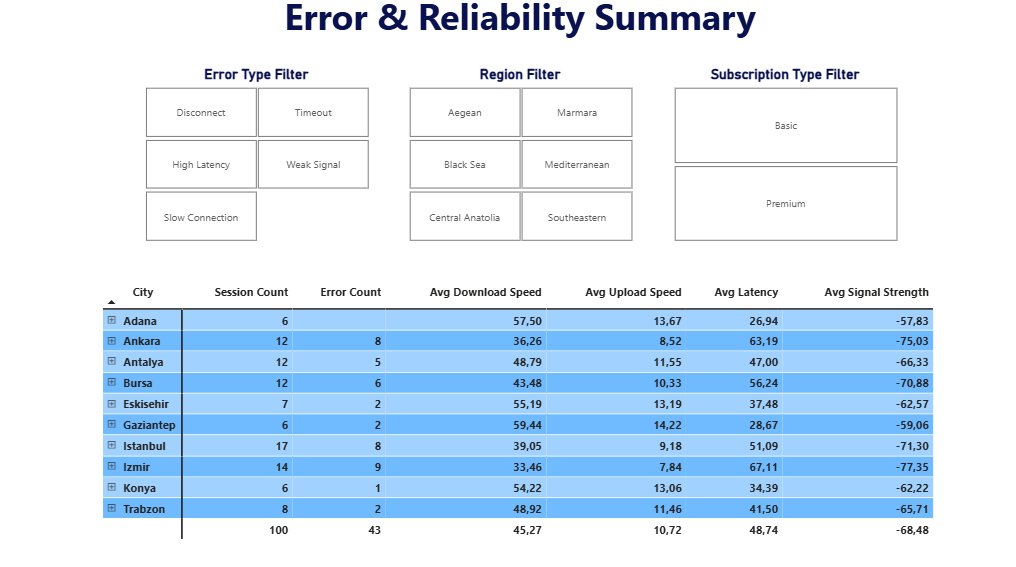

Layout of this report page (visuals, bound fields, positions):
{"tool":"powerbi","page":{"name":"Error & Reliability Analysis","canvas":[1280,720],"ordinal":6},"visuals":[{"type":"textbox","box":[300,0,680,151.7],"z":0},{"type":"pivotTable","fields":{"Rows":["Locations.city","Routers.model","Users.subscription_type"],"Values":["Count(Sessions.session_id)","Count(Errors.error_id)","Avg(Network_Logs.download_speed)","Avg(Network_Logs.upload_speed)","Avg(Network_Logs.latency)","Avg(Network_Logs.signal_strength)"]},"box":[137.3,346.7,1005.3,328],"z":1000},{"type":"slicer","title":"Region Filter","fields":{"Values":["Locations.region"]},"box":[482.7,94.7,316,216],"z":2000},{"type":"slicer","title":"Error Type Filter","fields":{"Values":["Errors.error_type"]},"box":[166.7,94.7,316,216],"z":3000},{"type":"slicer","title":"Subscription Type Filter","fields":{"Values":["Users.subscription_type"]},"box":[798.7,94.7,316,216],"z":4000}]}

Visuals, with their boxes in screenshot pixels (x1, y1, x2, y2), scaled from the page's 1280x720 canvas onto the 1016x567 screenshot:
textbox: <bbox>238, 0, 778, 119</bbox>
pivotTable - Locations.city x Routers.model: <bbox>109, 273, 907, 531</bbox>
"Region Filter" slicer: <bbox>383, 75, 634, 245</bbox>
"Error Type Filter" slicer: <bbox>132, 75, 383, 245</bbox>
"Subscription Type Filter" slicer: <bbox>634, 75, 885, 245</bbox>
